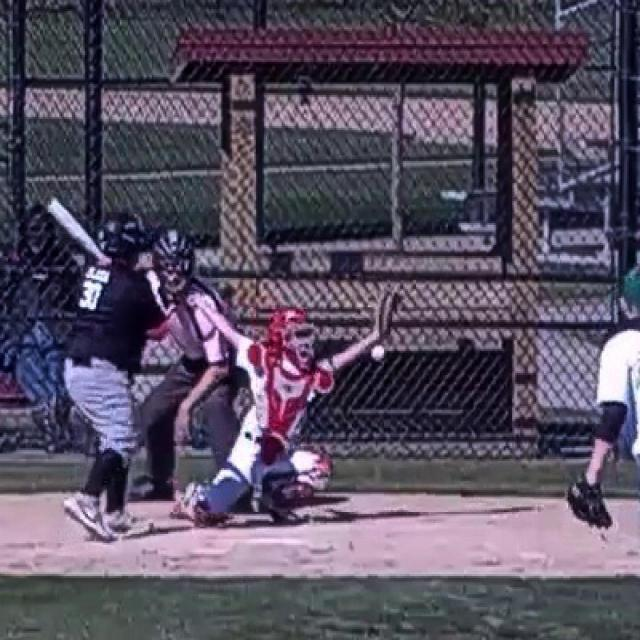baseball: (372, 346, 384, 359)
